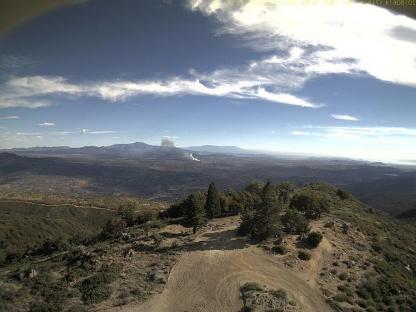smoke: (158, 136, 204, 162)
